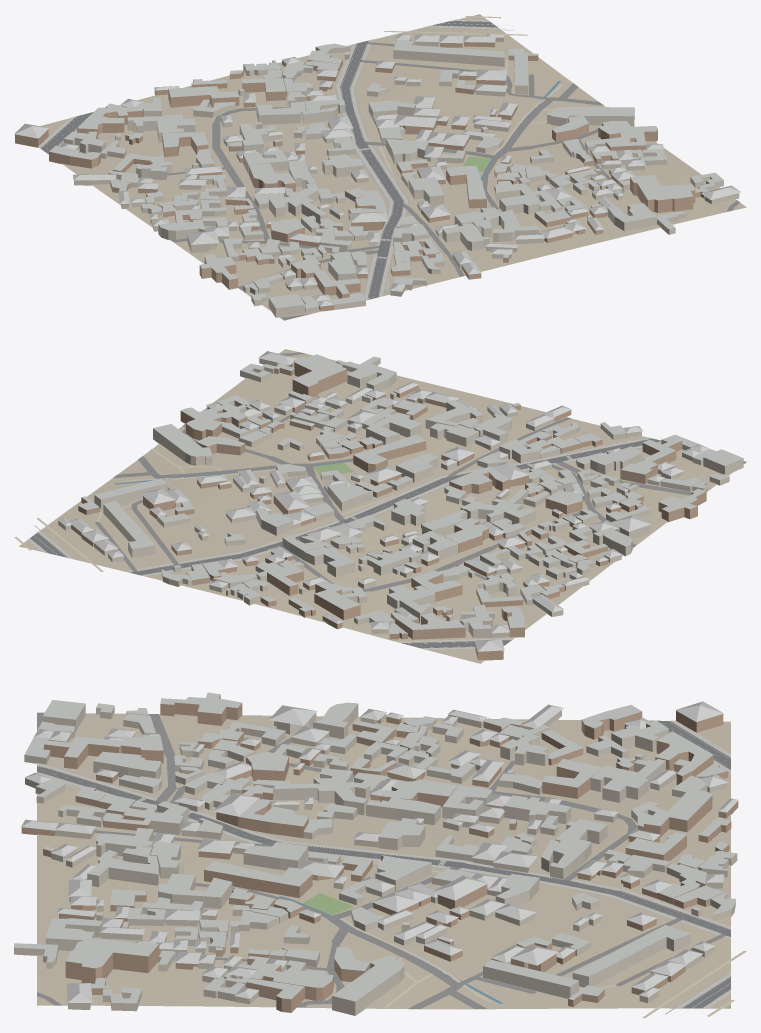
File: bolak_-5_3.glb
3 renders of one model, top to bottom at view 1: azimuth 30°, elevation 25°; view 2: azimuth 150°, elevation 25°; view 3: azimuth 270°, elevation 25°, orthographic. The views are drawn at different scales.
Parts seen in each view (by area): view 1: Tom_Shifer, Yer_Tuproq-col, Devor_Suvoq-col, Devor_Gisht-col, Yol_Mahalla-col, Yol_Asfalt-col, Trotuar, Yol_Piyoda, Ariq; view 2: Tom_Shifer, Yer_Tuproq-col, Devor_Suvoq-col, Devor_Gisht-col, Yol_Mahalla-col, Yol_Asfalt-col, Trotuar, Yol_Piyoda; view 3: Tom_Shifer, Yer_Tuproq-col, Devor_Suvoq-col, Devor_Gisht-col, Yol_Mahalla-col, Yol_Asfalt-col, Trotuar, Yol_Piyoda, Ariq, Yer_Maysa.
Boxes of the visible parts, x1,y1,x2,y2 form: Tom_Shifer: (14, 33, 740, 308); Yer_Tuproq-col: (38, 15, 746, 320); Devor_Suvoq-col: (63, 37, 739, 317); Devor_Gisht-col: (15, 42, 704, 311); Yol_Mahalla-col: (167, 42, 739, 320); Yol_Asfalt-col: (40, 21, 497, 299); Trotuar: (38, 19, 500, 299); Yol_Piyoda: (378, 16, 562, 288); Ariq: (335, 27, 514, 295); Tom_Shifer: (58, 351, 743, 651); Yer_Tuproq-col: (21, 349, 734, 663); Devor_Suvoq-col: (58, 358, 743, 637); Devor_Gisht-col: (71, 360, 708, 660); Yol_Mahalla-col: (95, 352, 746, 591); Yol_Asfalt-col: (30, 438, 660, 648); Trotuar: (27, 437, 661, 649); Yol_Piyoda: (14, 439, 631, 571); Tom_Shifer: (14, 692, 738, 1003); Yer_Tuproq-col: (37, 713, 730, 1009); Devor_Suvoq-col: (14, 704, 737, 1015); Devor_Gisht-col: (21, 695, 738, 1012); Yol_Mahalla-col: (37, 712, 725, 1008); Yol_Asfalt-col: (37, 720, 730, 1008); Trotuar: (37, 720, 730, 1007); Yol_Piyoda: (66, 784, 746, 1018); Ariq: (41, 763, 726, 1014); Yer_Maysa: (303, 893, 730, 1008).
Size of what is drawn, in the model's own units: 428 by 17.34 by 423.
